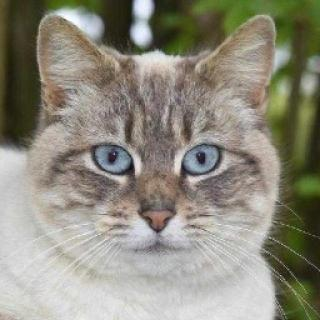cat: (25, 20, 285, 278)
nose: (132, 192, 181, 234)
